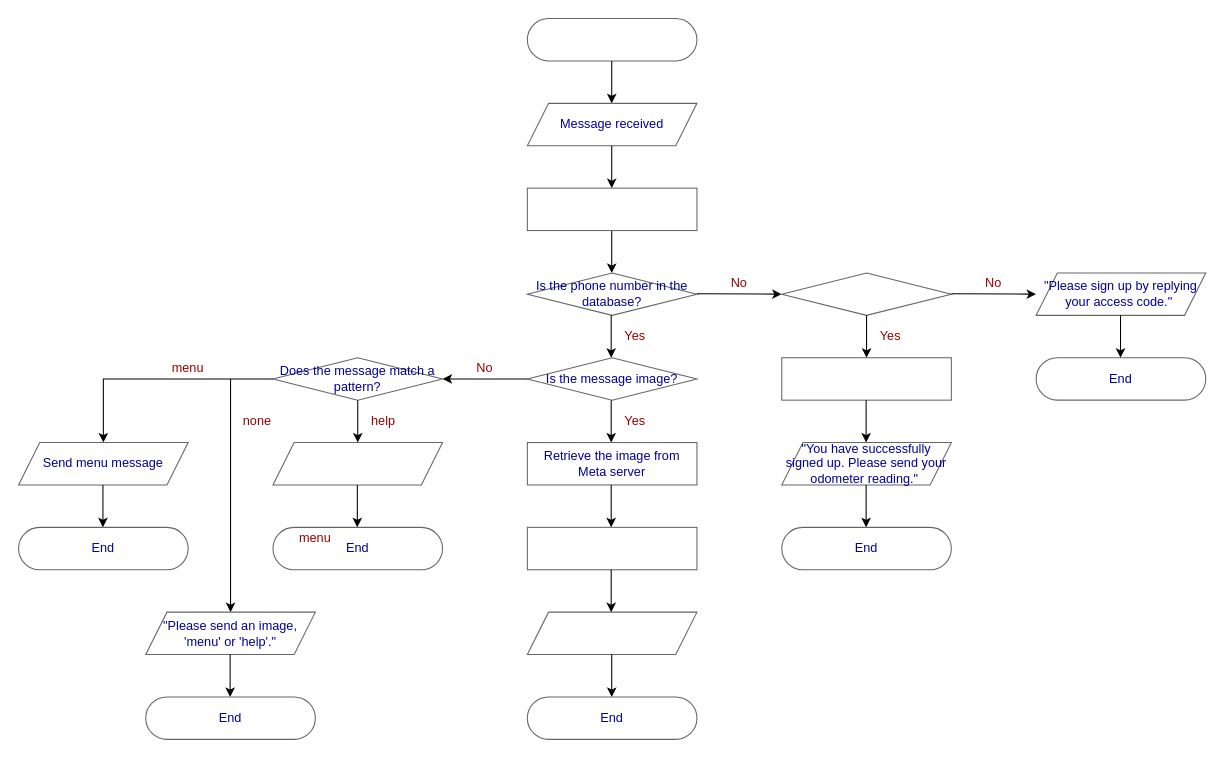
The diagram is 1224 pixels wide and 758 high, and some of its shapes have lost their labels. The centre of each missing label's shape, as x and y in pixels:
"Thank you for uploading the image.": point 611,633
Add the image to the database: point 611,548
Does the message match an access code?: point 866,293
Register the phone number to the database: point 866,378
Retrieve sender's phone number: point 611,209
Send instruction message: point 357,463
Start: point 611,39
